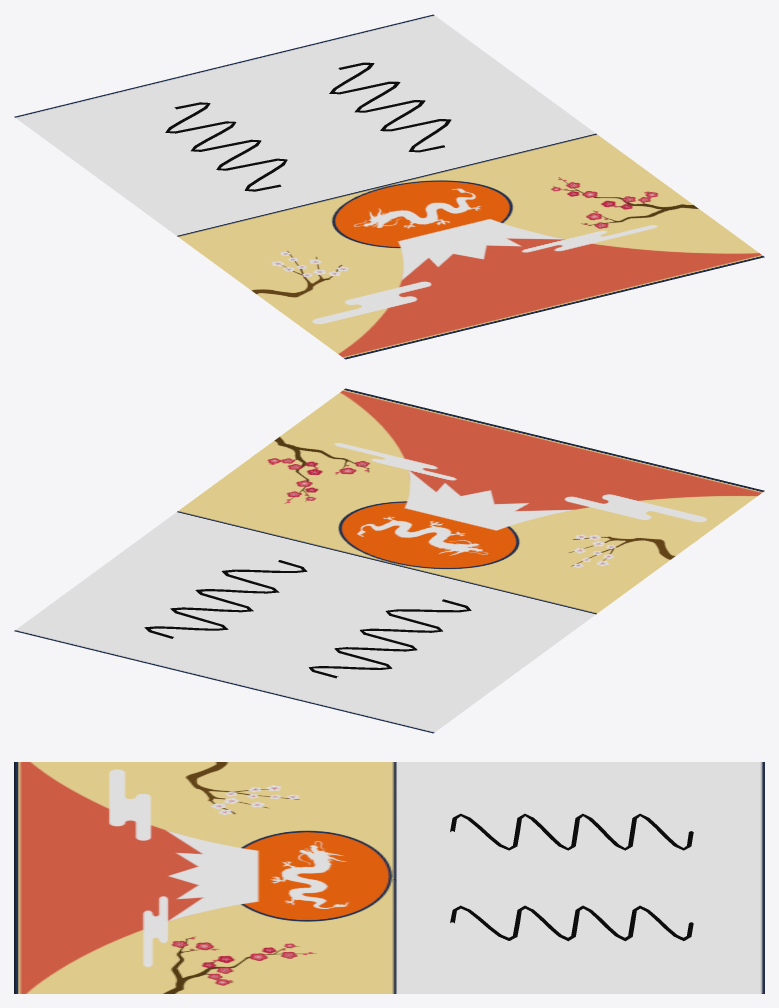
Rendered from Hagaki_omote_after.fbx.
3 renders of one model, top to bottom at view 1: azimuth 30°, elevation 25°; view 2: azimuth 150°, elevation 25°; view 3: azimuth 270°, elevation 25°, orthographic. The views are drawn at different scales.
Visible parts, largest first — view 1: 平面; view 2: 平面; view 3: 平面.
Part boxes in pixels (x1=…): 平面: x1=14, y1=14, x2=764, y2=359; 平面: x1=14, y1=388, x2=764, y2=733; 平面: x1=14, y1=762, x2=764, y2=993.
Bounding box in the file's own units: 200 × 1.04 × 274.
2 materials, 1 textured.
